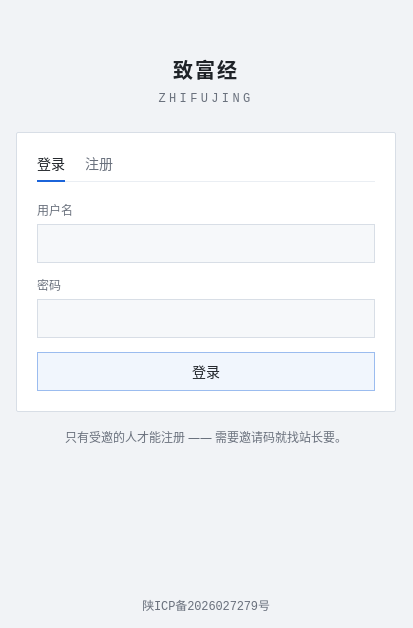
Test: P1-E 登录前的注销等待结果 › 登录接口成功但会话 Cookie 已被清掉时，不建立前端登录态
This screenshot has width=413, height=628.
Step 1. Type "u1" into the field labelled "用户名" → point(206, 244), box [37,224,375,263]
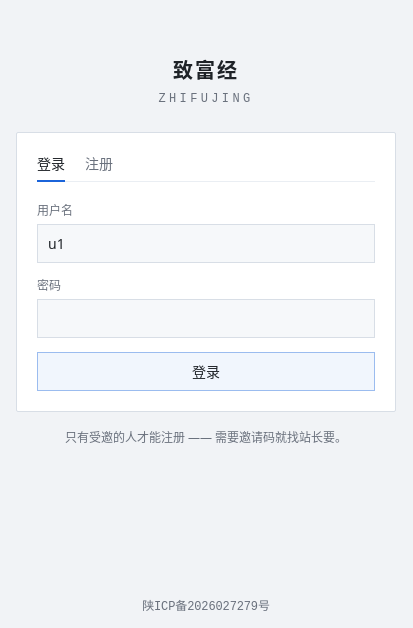
Step 2. Type "Test12345!" into the password field labelled "密码" → point(206, 319), box [37,299,375,338]
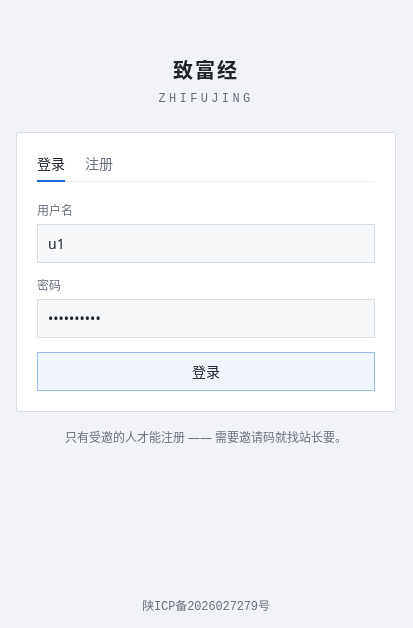
Step 3. Click the submit button → point(206, 372), box [37,352,375,391]
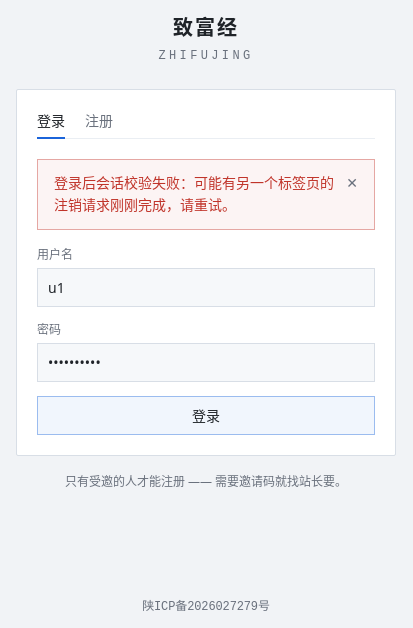
expect the text "登录后会话校验失败：可能有另一个标签页的注销请求刚刚完成，请重试。" is shown: met, box [54,172,336,217]
